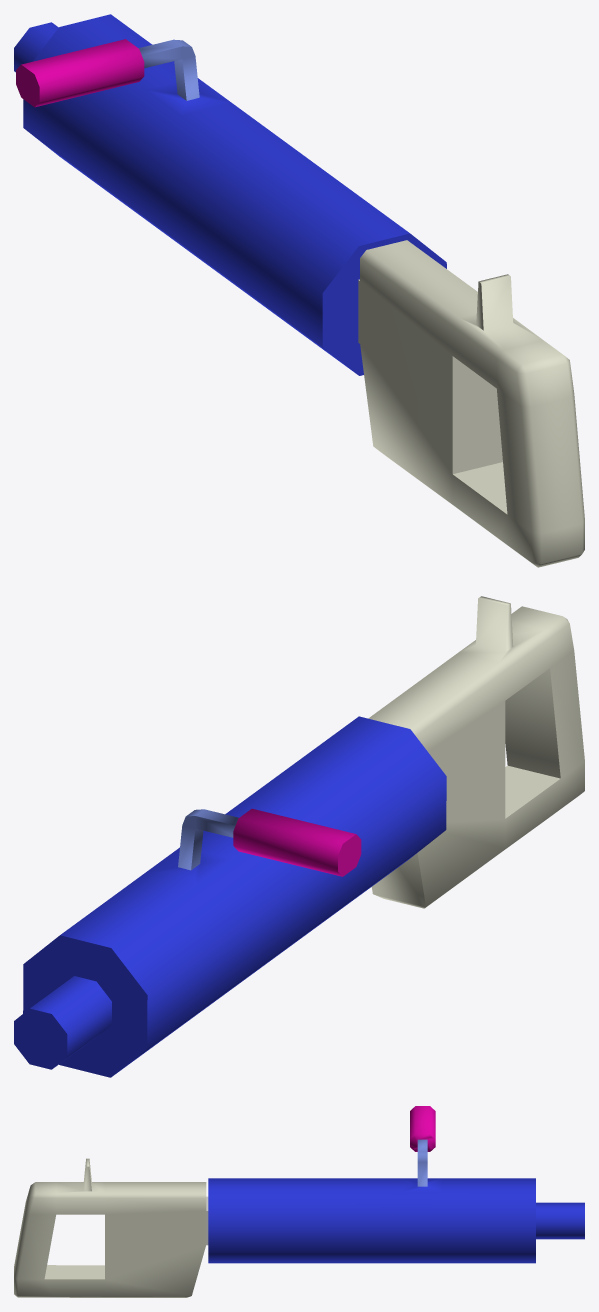
File: FatMG.fbx
3 renders of one model, top to bottom at view 1: azimuth 30°, elevation 25°; view 2: azimuth 150°, elevation 25°; view 3: azimuth 270°, elevation 25°, orthographic. The views are drawn at different scales.
Parts seen in each view (by area): view 1: FatMG; view 2: FatMG; view 3: FatMG.
Boxes of the visible parts, x1,y1,x2,y2 form: FatMG: [14, 14, 584, 567]; FatMG: [14, 596, 584, 1077]; FatMG: [14, 1106, 584, 1297].
Bounding box in the file's own units: 35.01 × 39.23 × 142.
